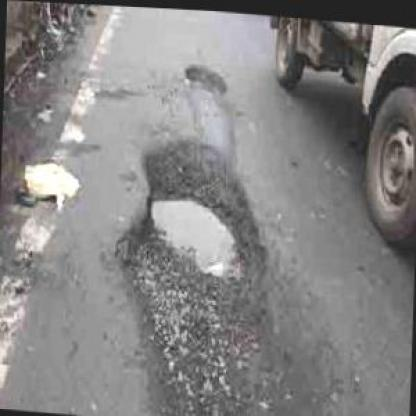pothole: (112, 128, 273, 414), (183, 58, 229, 92)
